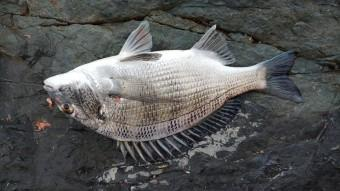fish: (42, 21, 306, 160)
